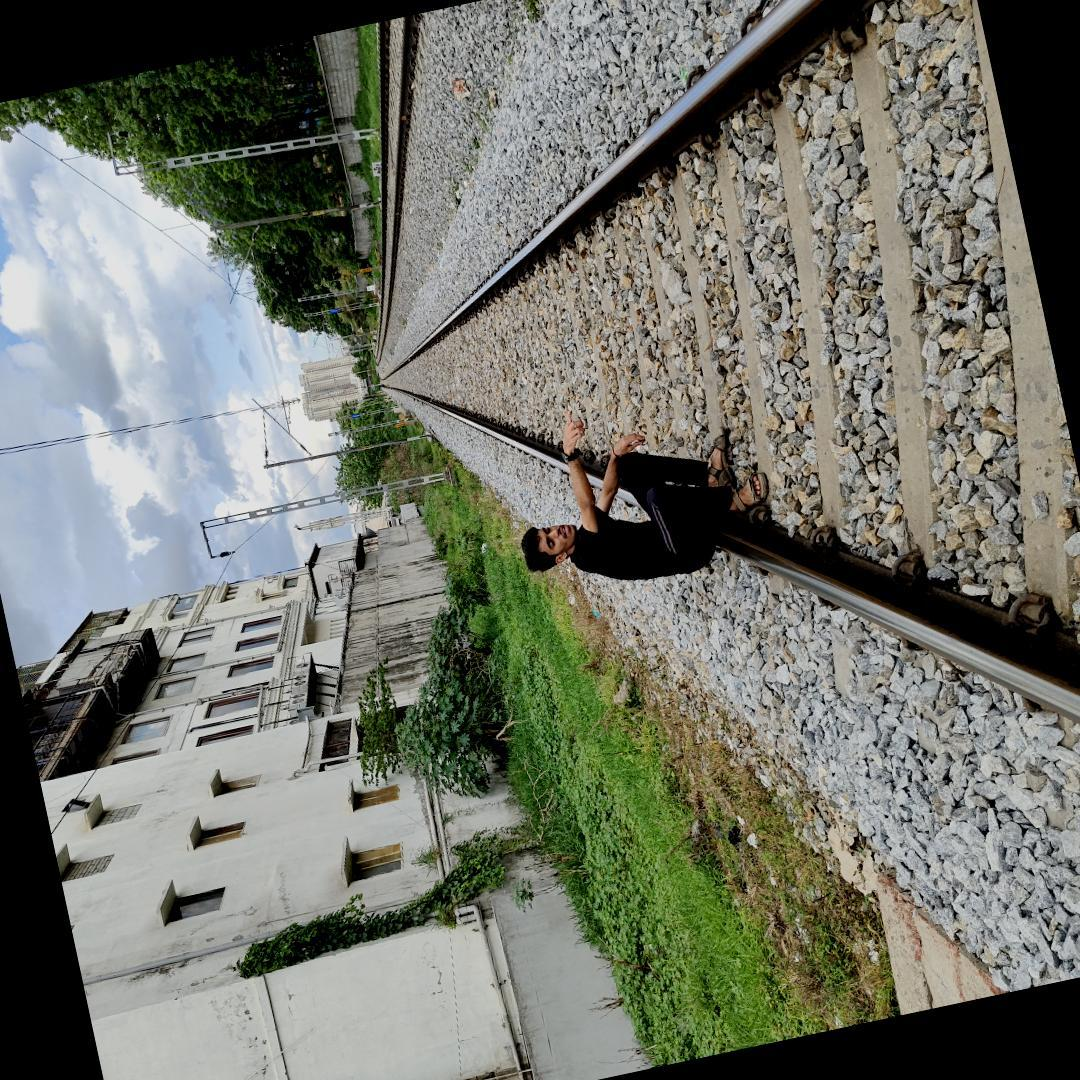sitting: (503, 416, 778, 592)
